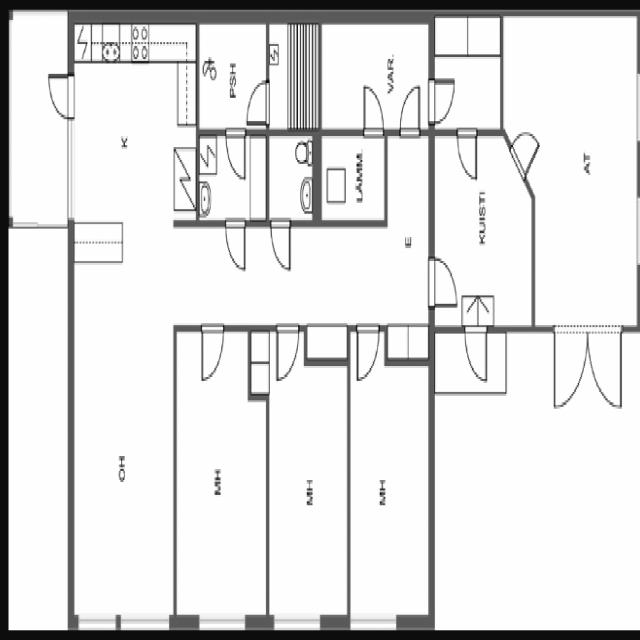door: (553, 326, 587, 405), (587, 326, 620, 405), (509, 114, 538, 180), (427, 258, 455, 304), (276, 324, 298, 376), (202, 323, 223, 377), (357, 324, 378, 376), (49, 76, 74, 118), (428, 80, 453, 122), (465, 326, 485, 377), (270, 218, 290, 266), (226, 128, 245, 177), (363, 86, 382, 135), (246, 81, 268, 123), (226, 218, 244, 267), (458, 128, 476, 176), (400, 88, 418, 135)
